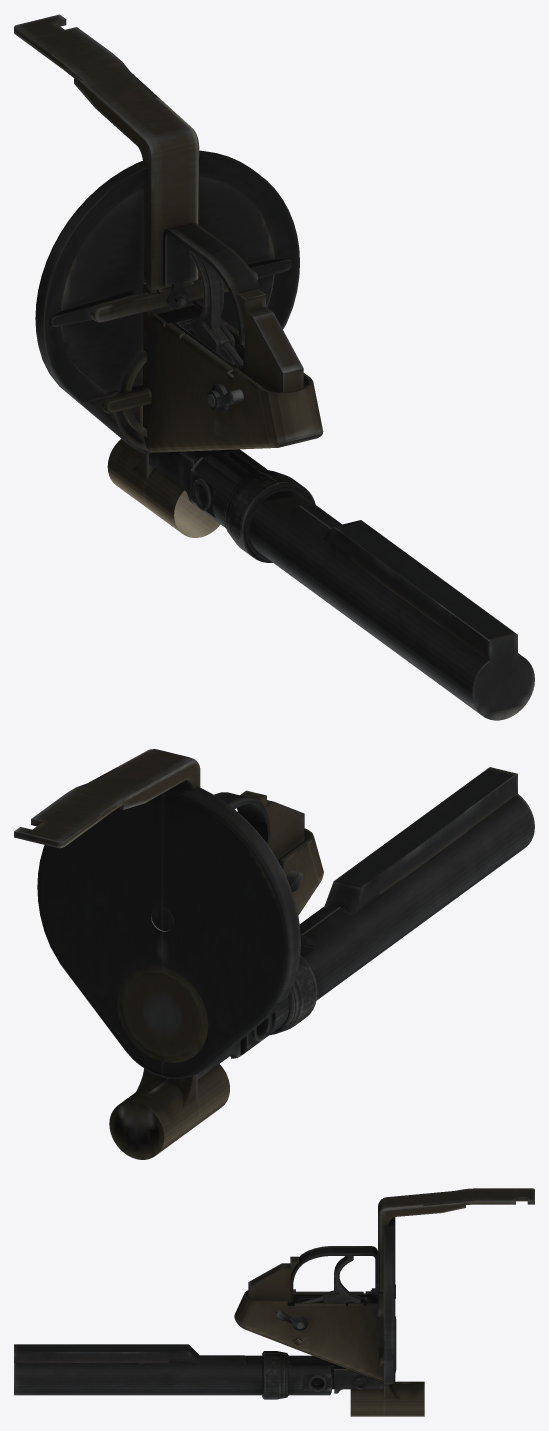
3 renders of one model, top to bottom at view 1: azimuth 30°, elevation 25°; view 2: azimuth 150°, elevation 25°; view 3: azimuth 270°, elevation 25°, orthographic. The views are drawn at different scales.
Visible parts, largest first — view 1: TW_6275303a9f372d6ea97f9ec7_PZ_Import; view 2: TW_6275303a9f372d6ea97f9ec7_PZ_Import; view 3: TW_6275303a9f372d6ea97f9ec7_PZ_Import.
Part boxes in pixels (x1,y1,x2,y2): TW_6275303a9f372d6ea97f9ec7_PZ_Import: (14, 14, 534, 720); TW_6275303a9f372d6ea97f9ec7_PZ_Import: (14, 749, 534, 1159); TW_6275303a9f372d6ea97f9ec7_PZ_Import: (14, 1188, 534, 1416).
Bounding box in the file's own units: 0.0701 × 0.2214 × 0.1033.
Materials: 1 (1 with a texture image).
